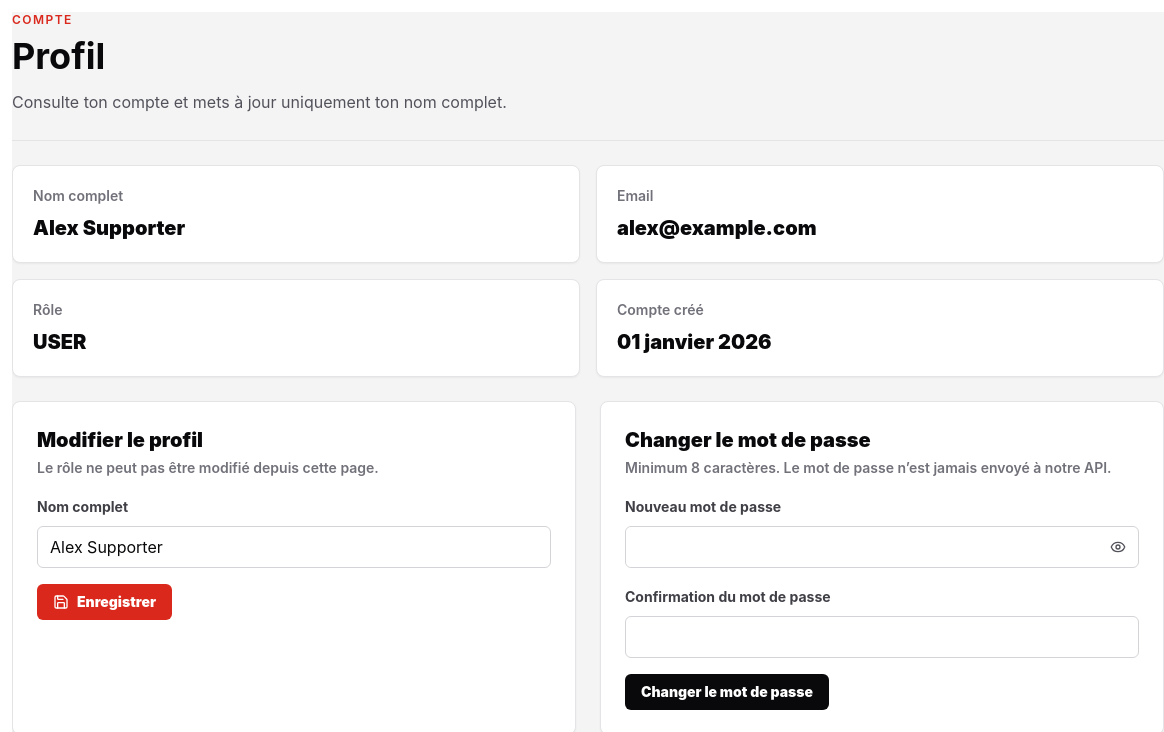
account pages › loads the profile and updates the full name through the API
Expected: the text "Alex Supporter" is shown, [33, 216, 185, 240]
Replace the text in the field labelled "Nom complet" with "  Alex Updated  ": coordinates (294, 547) [37, 526, 551, 568]
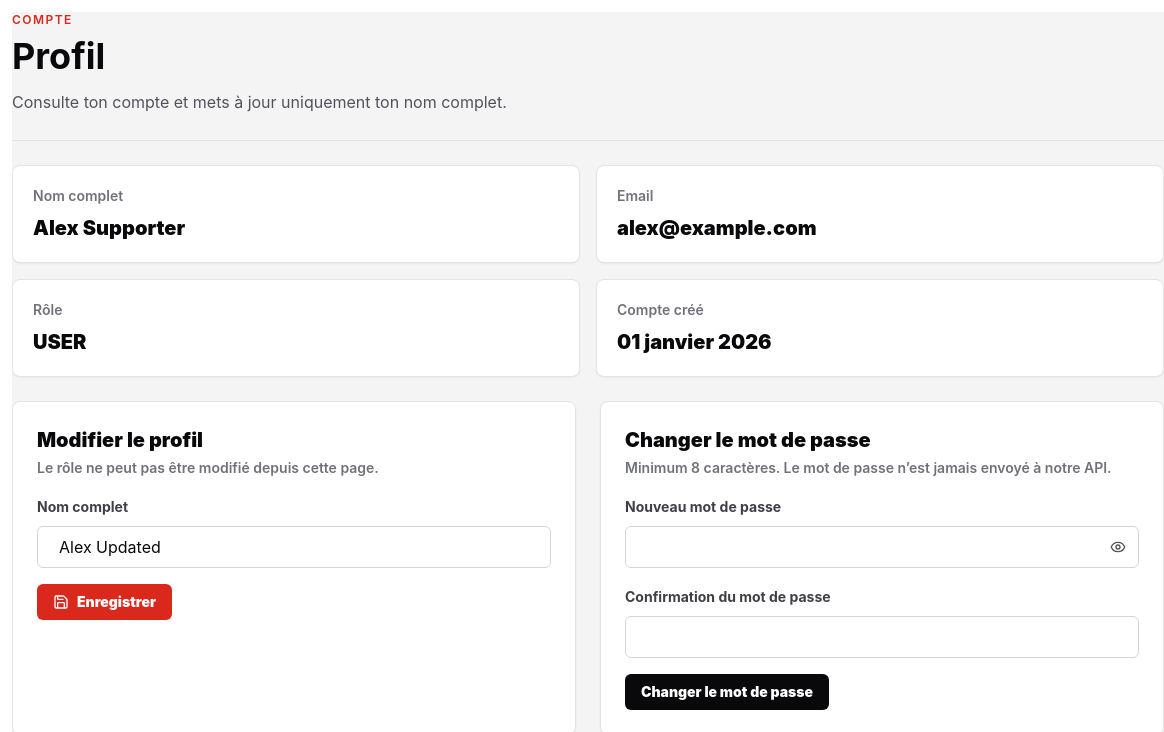
Click the button "Enregistrer": coordinates (104, 602) [37, 584, 172, 620]
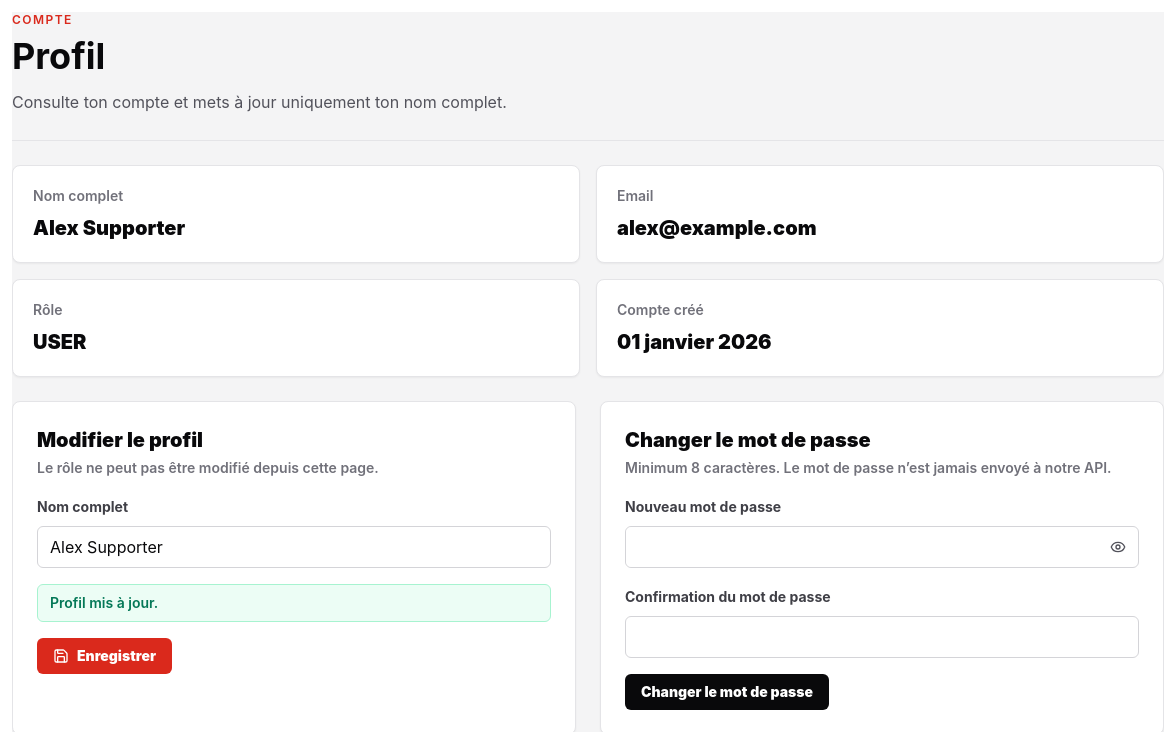
Expected: the text "Profil mis à jour." is shown, [37, 584, 551, 622]
